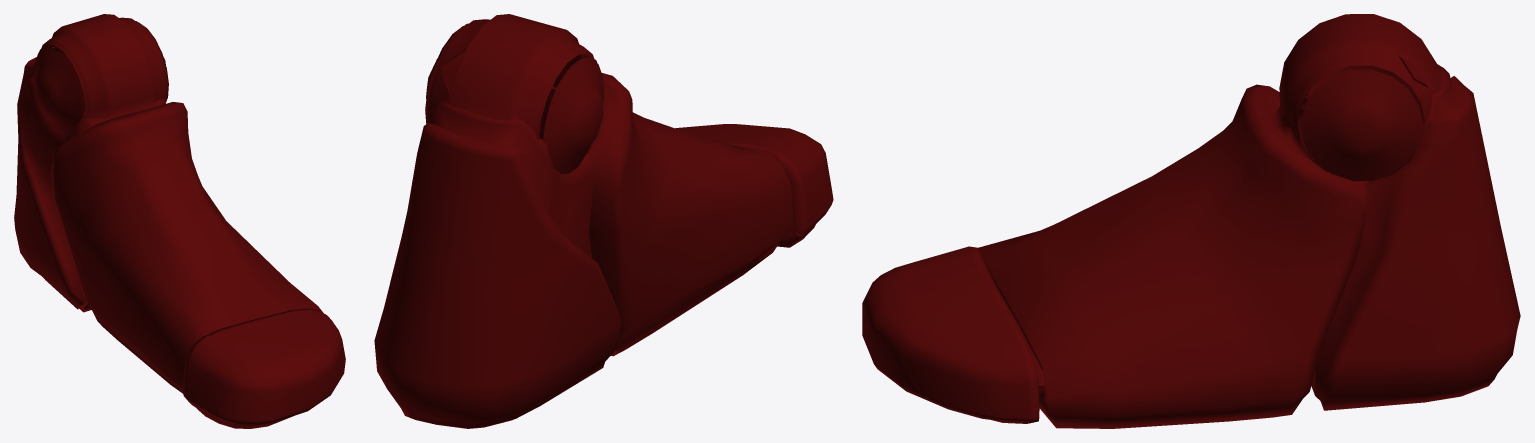
Rendered from SM_SteelBoots_st_left.fbx.
3 renders of one model, left to right at view 1: azimuth 30°, elevation 25°; view 2: azimuth 150°, elevation 25°; view 3: azimuth 270°, elevation 25°, orthographic. The views are drawn at different scales.
Parts seen in each view (by area): view 1: SM_SteelBoots; view 2: SM_SteelBoots; view 3: SM_SteelBoots.
Boxes of the visible parts, bbox=[...] form: SM_SteelBoots: bbox=[14, 14, 345, 428]; SM_SteelBoots: bbox=[374, 14, 833, 428]; SM_SteelBoots: bbox=[862, 14, 1520, 428].
Size of what is drawn, in the model's own units: 1.2 by 1.74 by 3.04.
